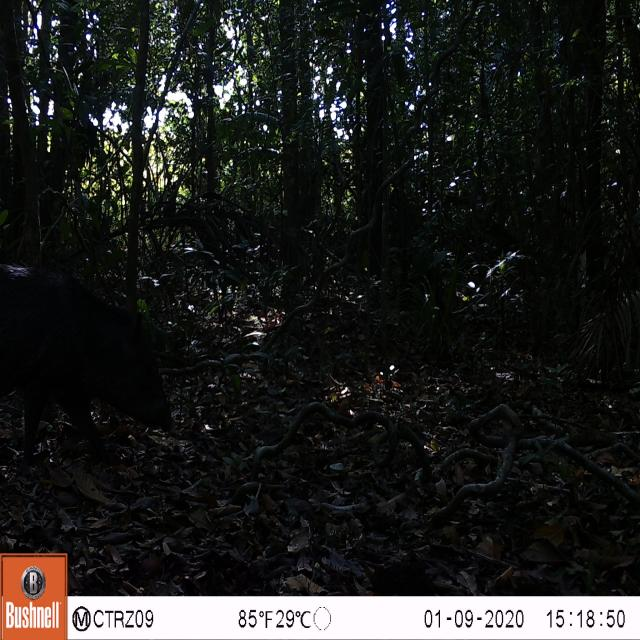White-lipped Peccary: (0, 226, 187, 477)
